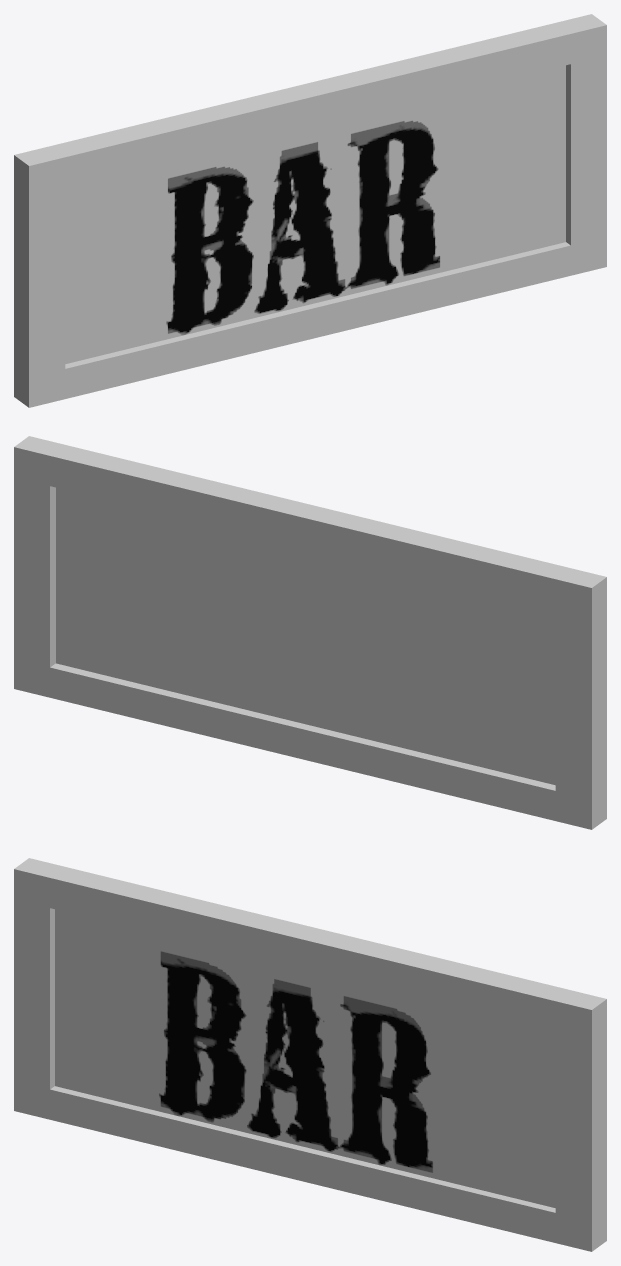
File: SignBoard_1.fbx
3 views of the same model, one above another, from view 1: azimuth 30°, elevation 25°; view 2: azimuth 150°, elevation 25°; view 3: azimuth 330°, elevation 25° (orthographic).
Parts seen in each view (by area): view 1: SignBoard_1; view 2: SignBoard_1; view 3: SignBoard_1.
Part boxes in pixels (x1=…): SignBoard_1: x1=14, y1=14, x2=606, y2=407; SignBoard_1: x1=14, y1=436, x2=606, y2=829; SignBoard_1: x1=14, y1=858, x2=606, y2=1251.
Bounding box in the file's own units: 2 × 0.8 × 0.0909.
